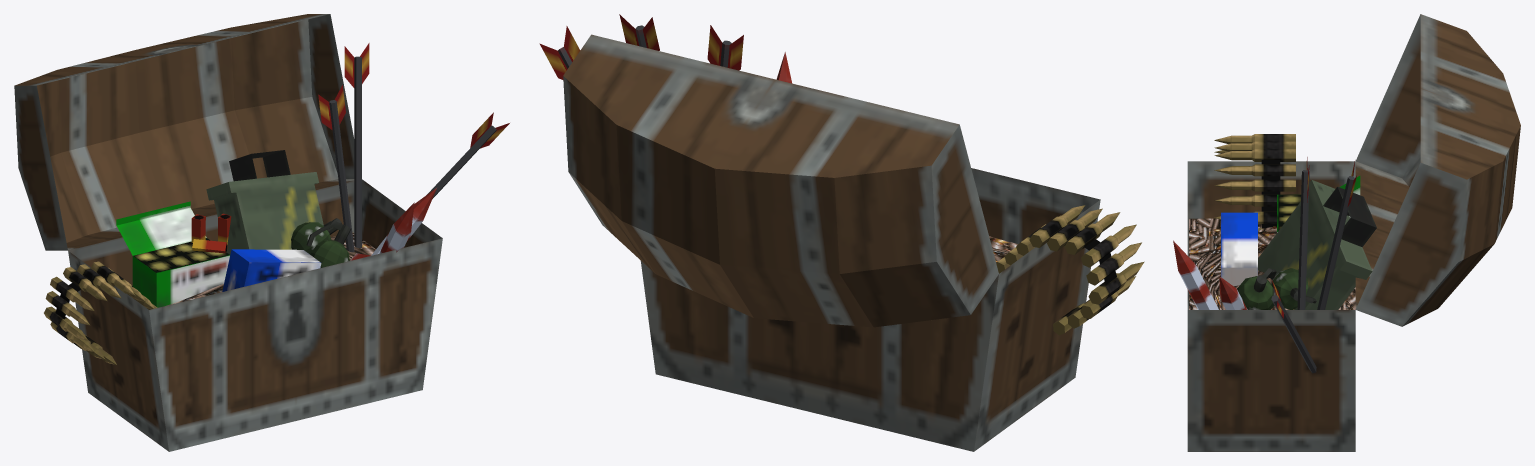
File: ammo chest .fbx
3 views of the same model, side by side, from view 1: azimuth 30°, elevation 25°; view 2: azimuth 150°, elevation 25°; view 3: azimuth 270°, elevation 25° (orthographic). The views are drawn at different scales.
Parts seen in each view (by area): view 1: CHEST, ammo box, shotgun bullets, Plane.002, pistol bullets, arrow.001, arrow.002, greanade, arrow, greanade.001, missile.001, missile (+1 smaller); view 2: CHEST, Plane.002, arrow.002, arrow, arrow.001; view 3: CHEST, ammo box, Plane.002, Plane, pistol bullets, missile.001, arrow.002, arrow.001, greanade, greanade.001, arrow, shotgun bullets (+1 smaller).
Boxes of the visible parts, x1,y1,x2,y2 form: CHEST: (14, 14, 442, 451); ammo box: (206, 150, 323, 254); shotgun bullets: (116, 201, 230, 307); Plane.002: (44, 261, 157, 364); pistol bullets: (222, 249, 321, 291); arrow.001: (344, 43, 369, 248); arrow.002: (318, 85, 354, 252); greanade: (306, 220, 351, 267); arrow: (427, 112, 509, 198); greanade.001: (291, 218, 341, 254); missile.001: (379, 202, 414, 253); missile: (350, 188, 436, 260); CHEST: (563, 34, 1100, 451); Plane.002: (996, 205, 1144, 335); arrow.002: (707, 25, 743, 70); arrow: (539, 26, 580, 79); arrow.001: (619, 14, 659, 50); CHEST: (1187, 14, 1520, 451); ammo box: (1258, 180, 1376, 309); Plane.002: (1214, 134, 1295, 230); Plane: (1189, 218, 1355, 309); pistol bullets: (1221, 212, 1257, 286); missile.001: (1173, 240, 1218, 309); arrow.002: (1297, 157, 1309, 309); arrow.001: (1317, 160, 1356, 309); greanade: (1237, 268, 1276, 309); greanade.001: (1271, 268, 1316, 309); arrow: (1271, 280, 1316, 373); shotgun bullets: (1277, 176, 1360, 232).
Bounding box in the file's own units: 652 × 394 × 414.
Materials: 3 (3 with a texture image).
